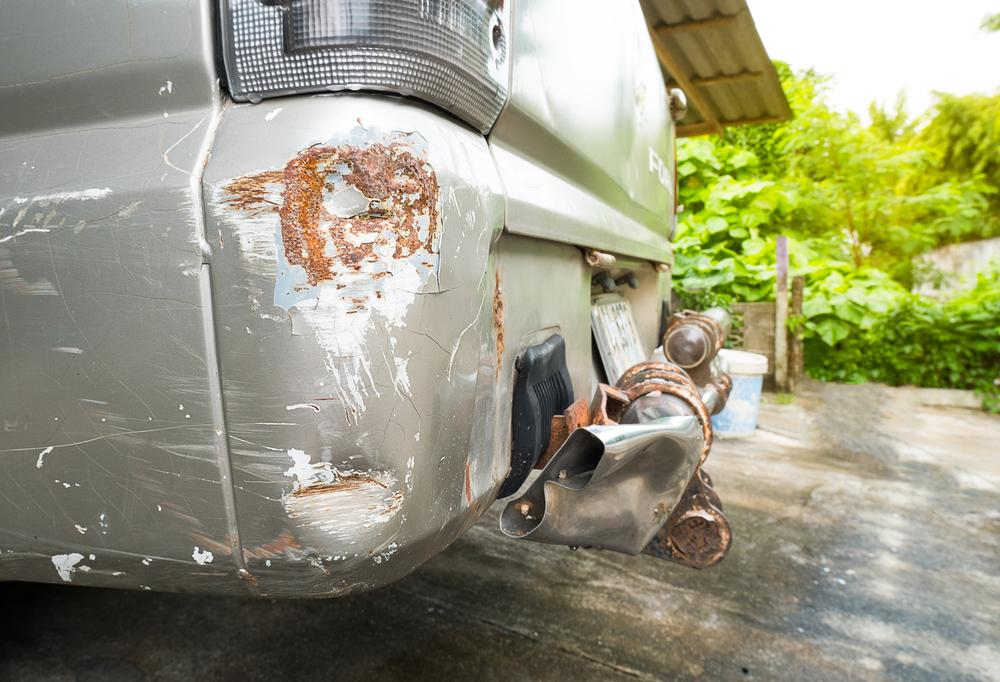dent: (285, 456, 393, 543)
scratch: (0, 178, 245, 597), (213, 118, 450, 497), (246, 525, 361, 600)
